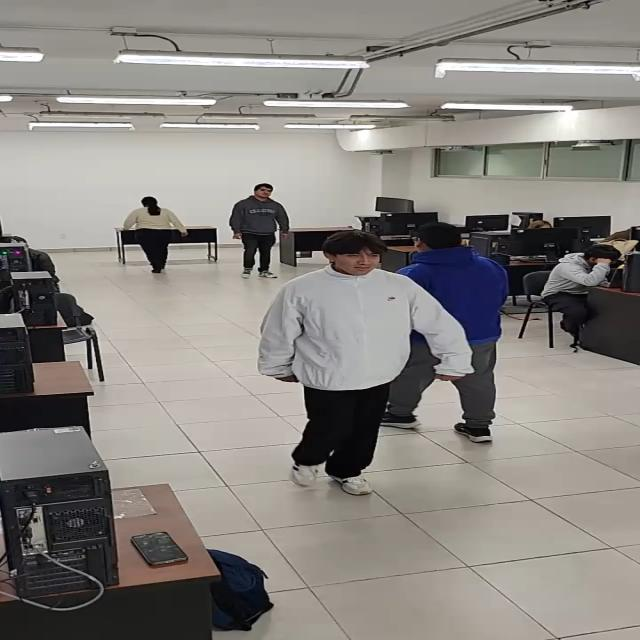Persona: (260, 226, 422, 500), (402, 223, 514, 447), (229, 182, 293, 280), (120, 193, 183, 279)
